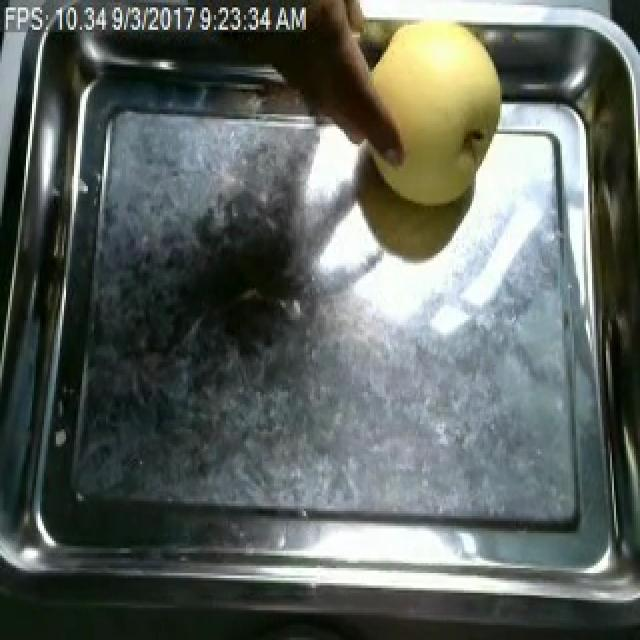Fruit: (352, 10, 514, 218)
